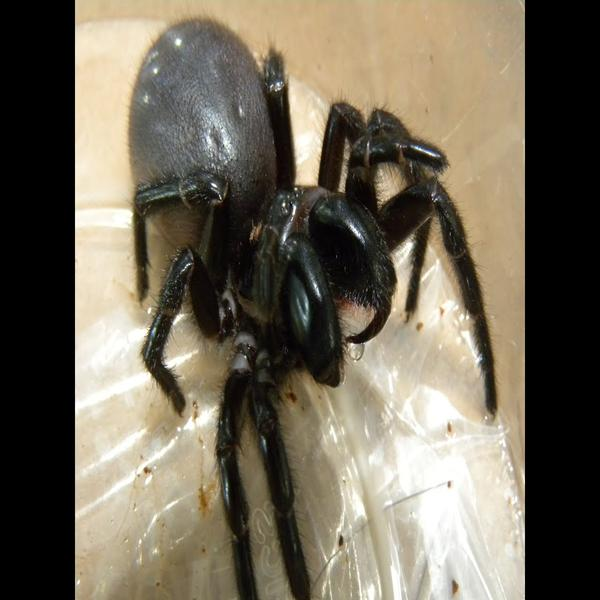Funnel Web Spider: (126, 15, 497, 591)
